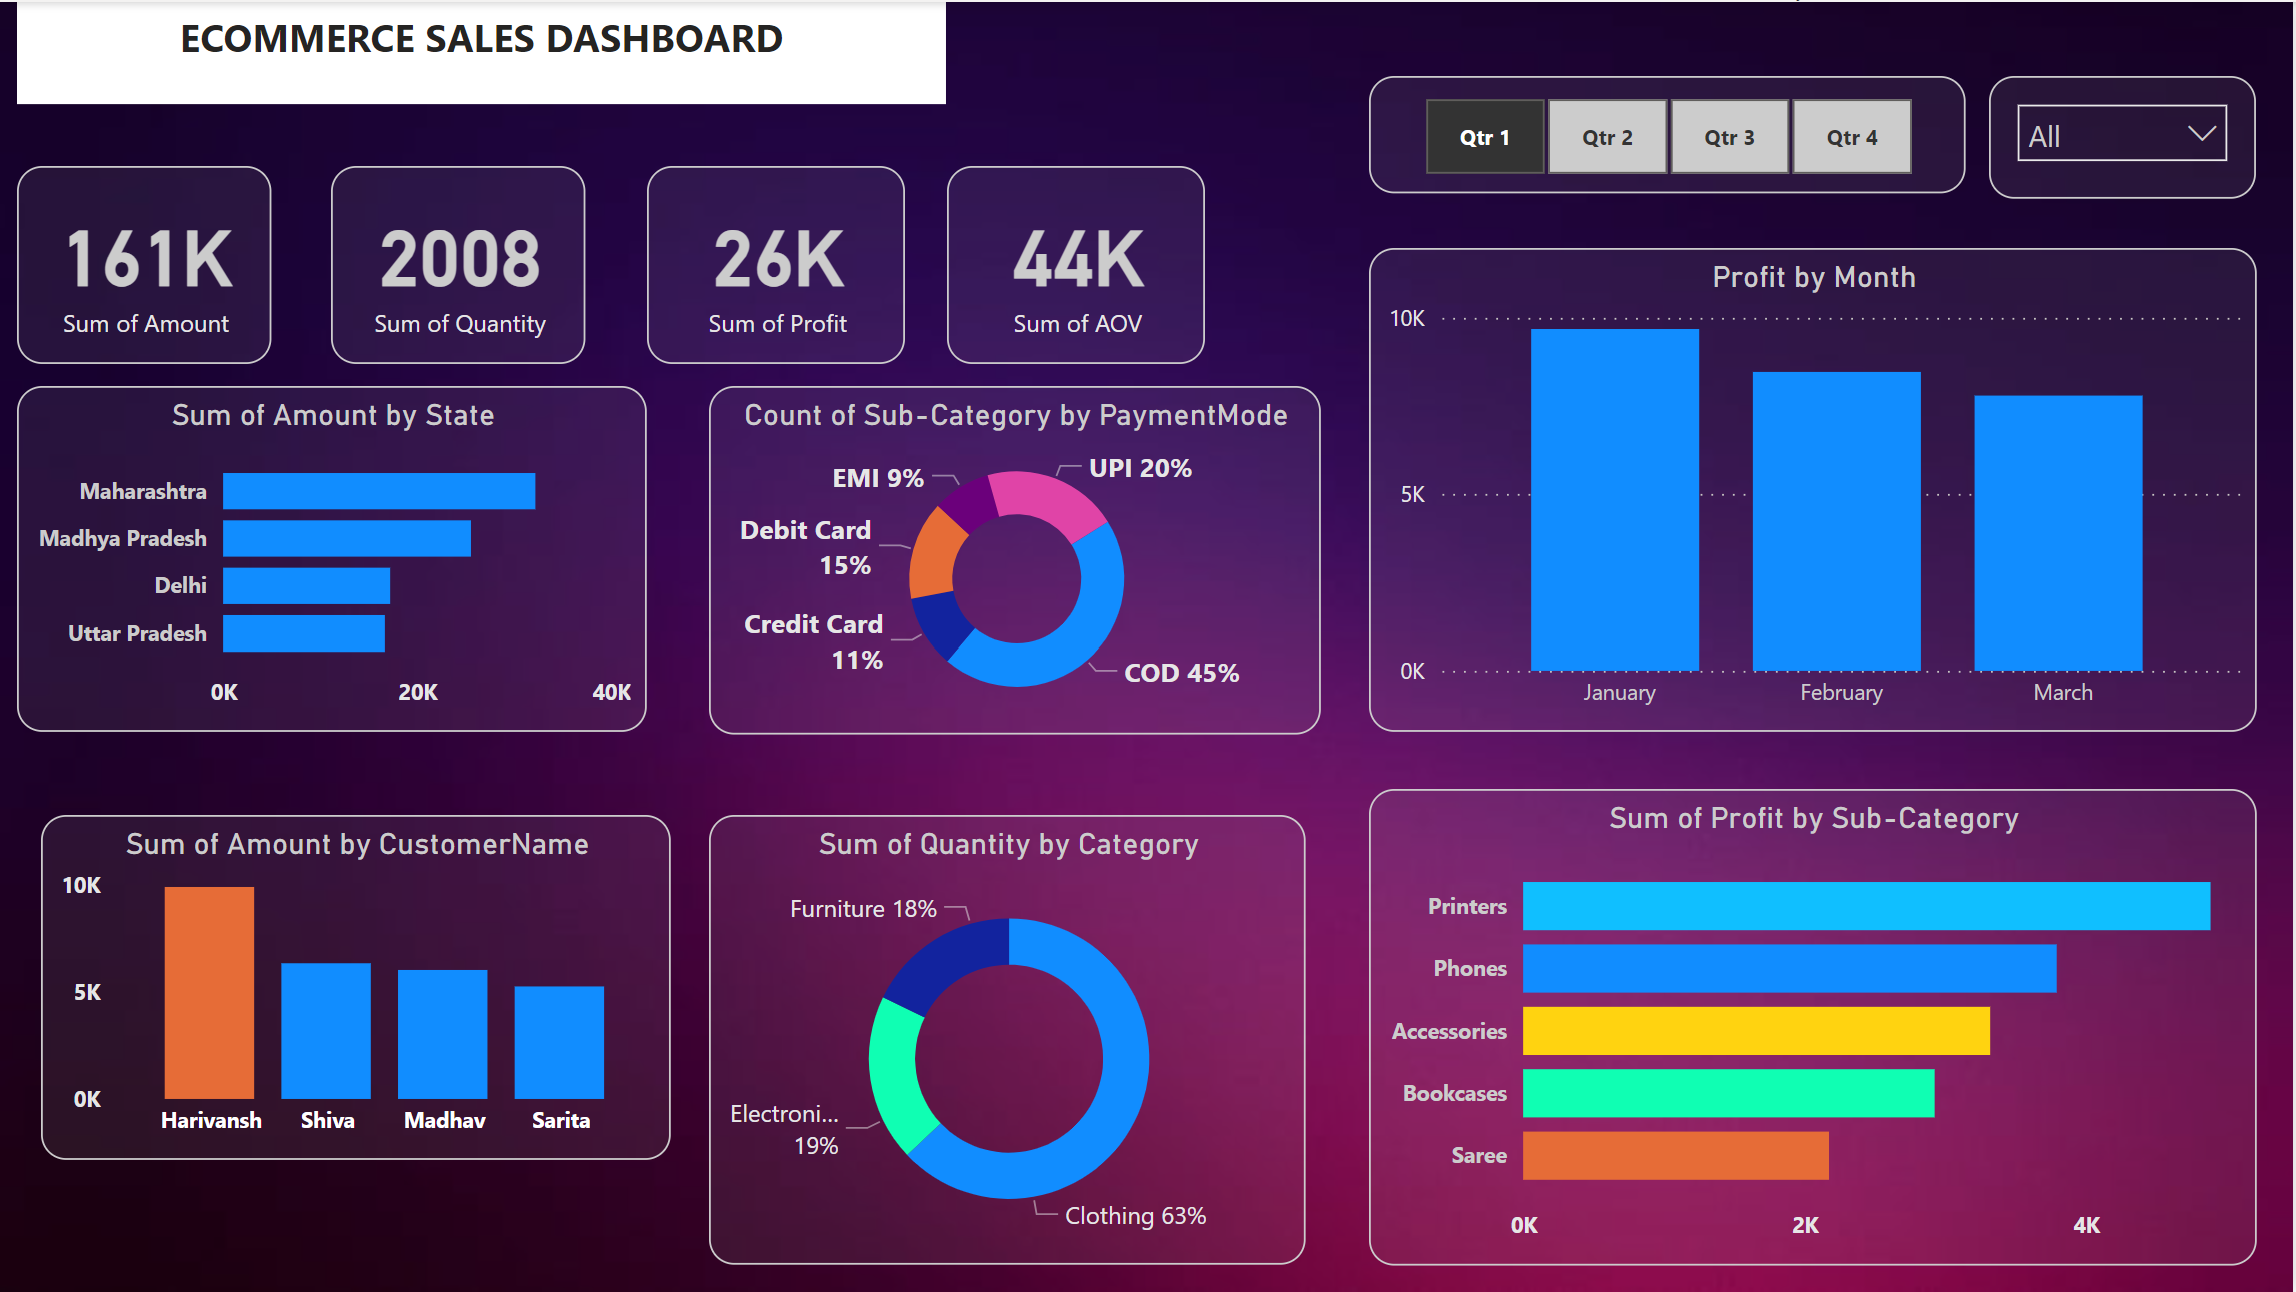

Layout of this report page (visuals, bound fields, positions):
{"tool":"powerbi","page":{"name":"Sales dashboard","canvas":[1280,720],"ordinal":0},"visuals":[{"type":"textbox","box":[10,0,518.7,56.9],"z":0},{"type":"columnChart","title":" Profit by Month","fields":{"Category":["Orders.Order Date.Variation.Date Hierarchy.Month"],"Y":["Details.Profit"]},"box":[764.7,137.2,495.3,269.4],"z":1000},{"type":"barChart","fields":{"Category":["Details.Sub-Category"],"Y":["Details.Profit"]},"box":[764.7,438.4,495.3,266],"z":2000},{"type":"donutChart","fields":{"Category":["Details.Category"],"Y":["Details.Quantity"]},"box":[396.5,453.4,333,251],"z":3000},{"type":"donutChart","fields":{"Series":["Details.PaymentMode"],"Y":["Details.Sub-Category"]},"box":[396.5,214.2,341.3,194.1],"z":4000},{"type":"card","fields":{"Values":["Details.Amount"]},"box":[10,92,142.2,110.4],"z":5000},{"type":"card","fields":{"Values":["Details.Quantity"]},"box":[185.7,92,142.2,110.4],"z":6000},{"type":"card","fields":{"Values":["Details.Profit"]},"box":[361.4,92,143.9,110.4],"z":7000},{"type":"card","fields":{"Values":["Details.AOV"]},"box":[528.7,92,143.9,110.4],"z":8000},{"type":"barChart","fields":{"Y":["Details.Amount"],"Category":["Orders.State"]},"box":[10,214.2,351.4,192.4],"z":9000},{"type":"columnChart","fields":{"Category":["Orders.CustomerName"],"Y":["Details.Amount"]},"box":[23.4,453.4,351.4,192.4],"z":10000},{"type":"slicer","fields":{"Values":["Orders.Order Date.Variation.Date Hierarchy.Quarter"]},"box":[764.7,41.8,333,65.3],"z":11000},{"type":"slicer","fields":{"Values":["Orders.State"]},"box":[1111,41.8,148.9,68.6],"z":12000}]}

Visuals, with their boxes in screenshot pixels (x1, y1, x2, y2), scaled from the page's 1280x720 canvas onto the 2296x1292 screenshot:
textbox: box(18, 0, 948, 102)
" Profit by Month" columnChart: box(1372, 246, 2260, 730)
barChart - Details.Sub-Category x Details.Profit: box(1372, 787, 2260, 1264)
donutChart - Details.Category x Details.Quantity: box(711, 814, 1309, 1264)
donutChart - Details.PaymentMode x Details.Sub-Category: box(711, 384, 1323, 733)
card - Details.Amount: box(18, 165, 273, 363)
card - Details.Quantity: box(333, 165, 588, 363)
card - Details.Profit: box(648, 165, 906, 363)
card - Details.AOV: box(948, 165, 1206, 363)
barChart - Details.Amount x Orders.State: box(18, 384, 648, 730)
columnChart - Orders.CustomerName x Details.Amount: box(42, 814, 672, 1159)
slicer - Orders.Order Date.Variation.Date Hierarchy.Quarter: box(1372, 75, 1969, 192)
slicer - Orders.State: box(1993, 75, 2260, 198)
